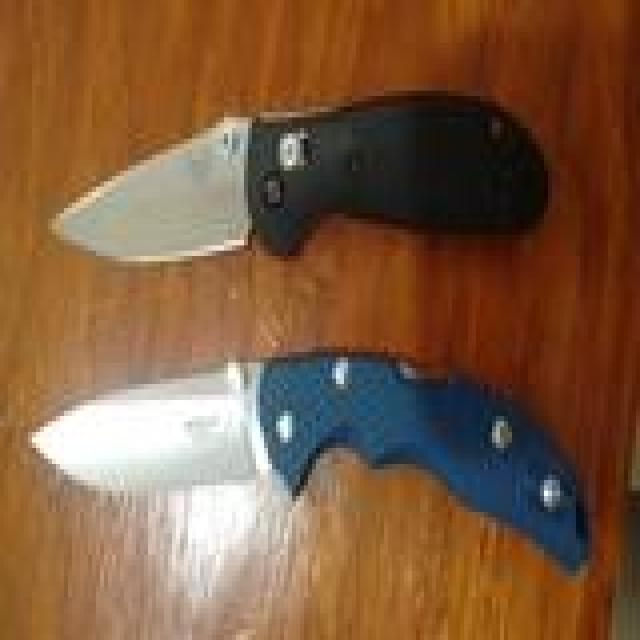Knife: (21, 78, 614, 583)
